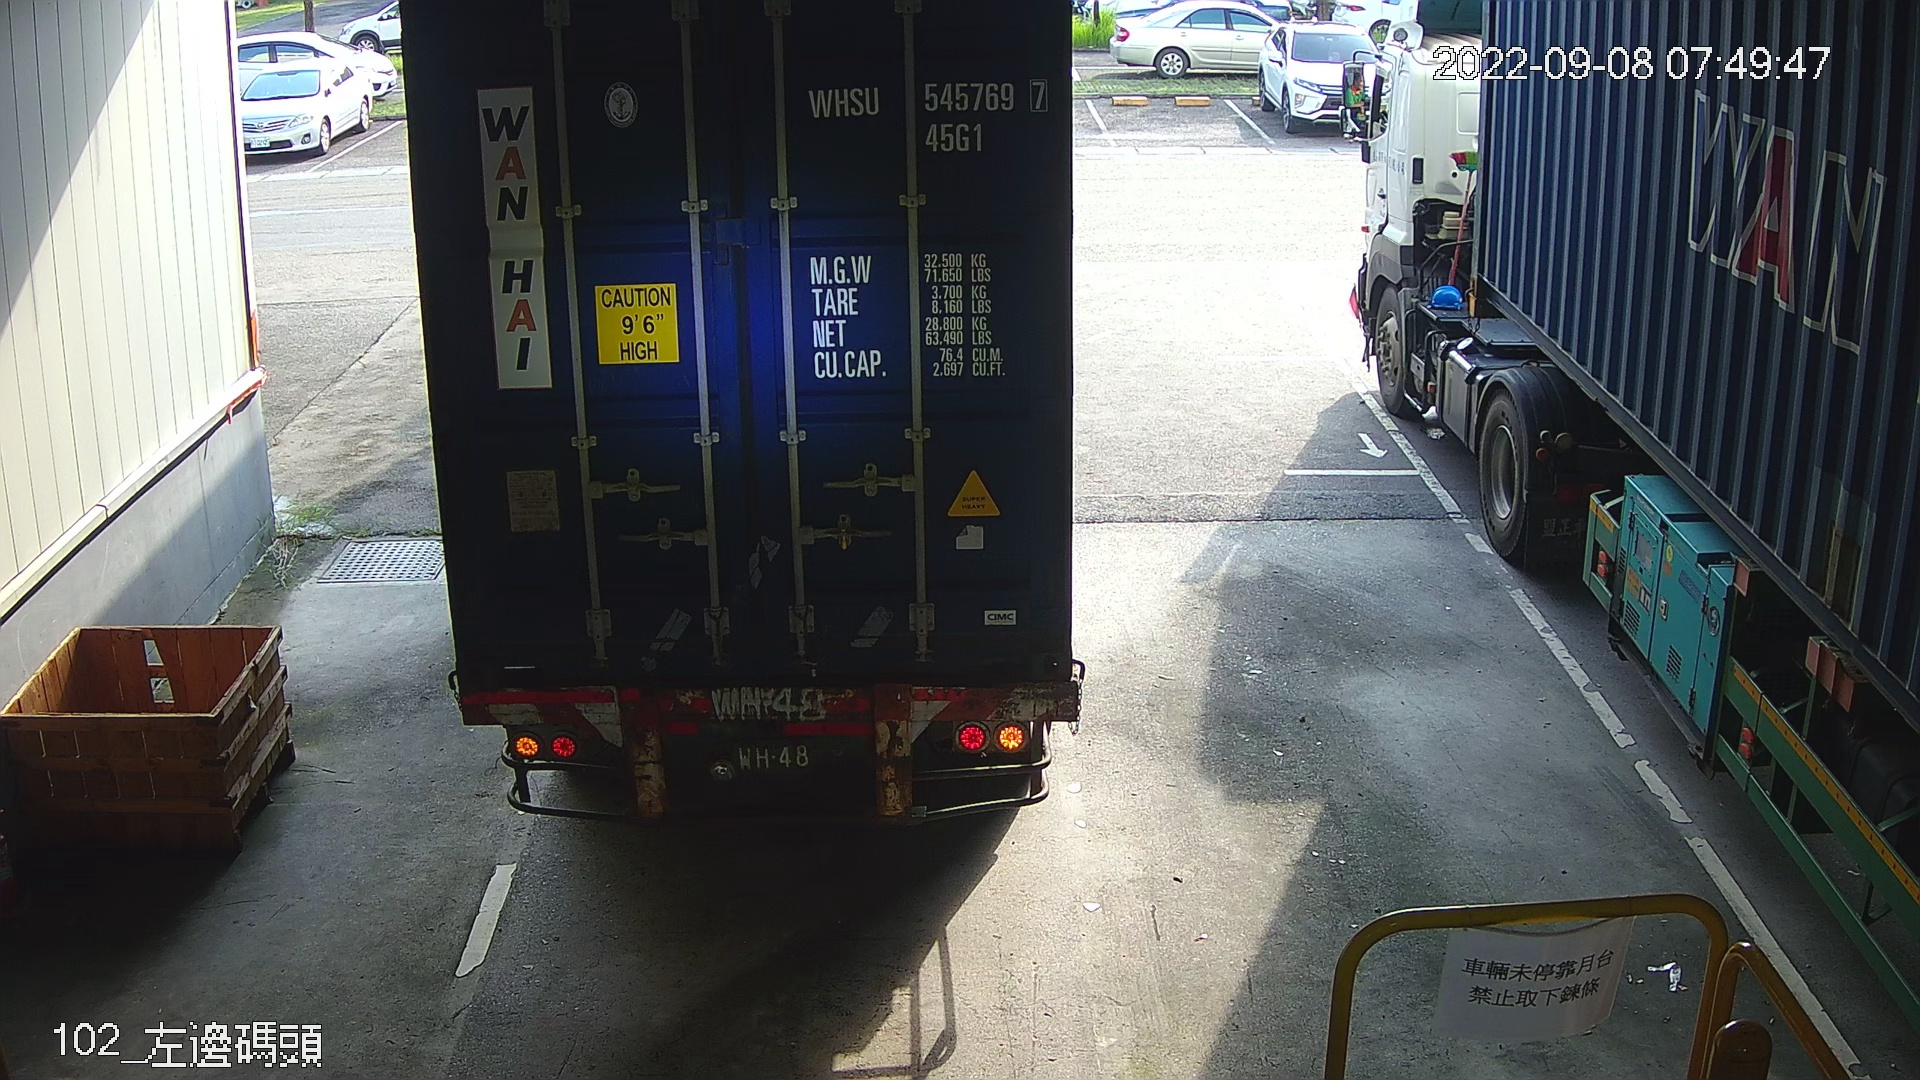container: (798, 73, 1058, 164)
